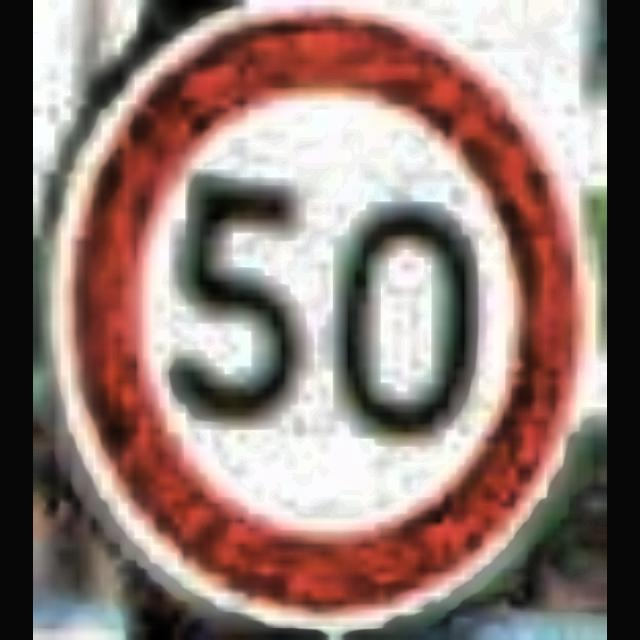speed_50: (33, 1, 599, 632)
